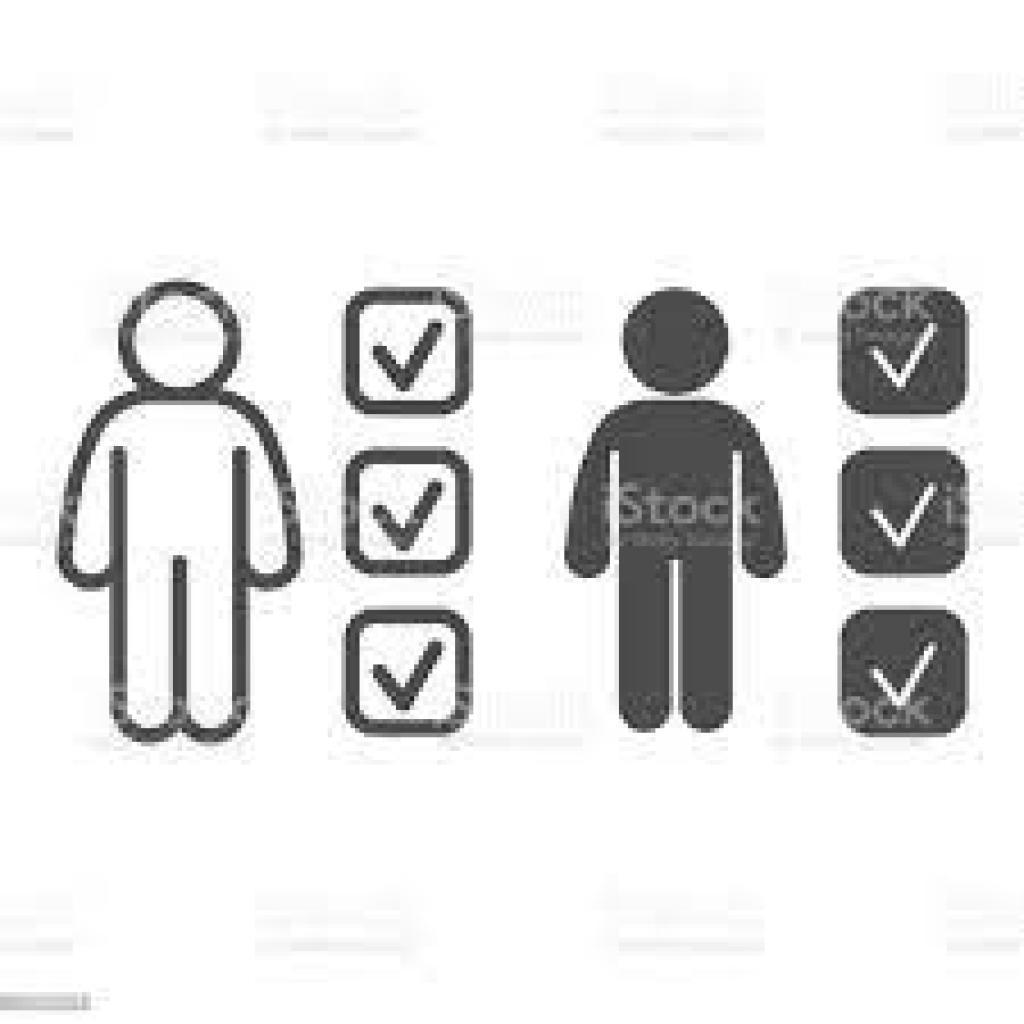checkbox: (831, 284, 975, 425), (839, 600, 973, 745), (834, 449, 979, 579), (342, 284, 479, 421), (339, 445, 474, 578), (342, 605, 478, 737)
